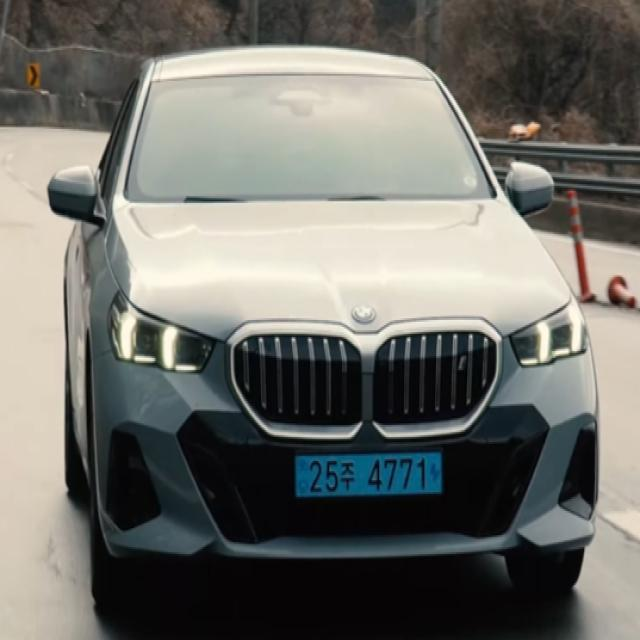car: (271, 440, 480, 519)
carev: (288, 447, 311, 508), (426, 446, 450, 504)
